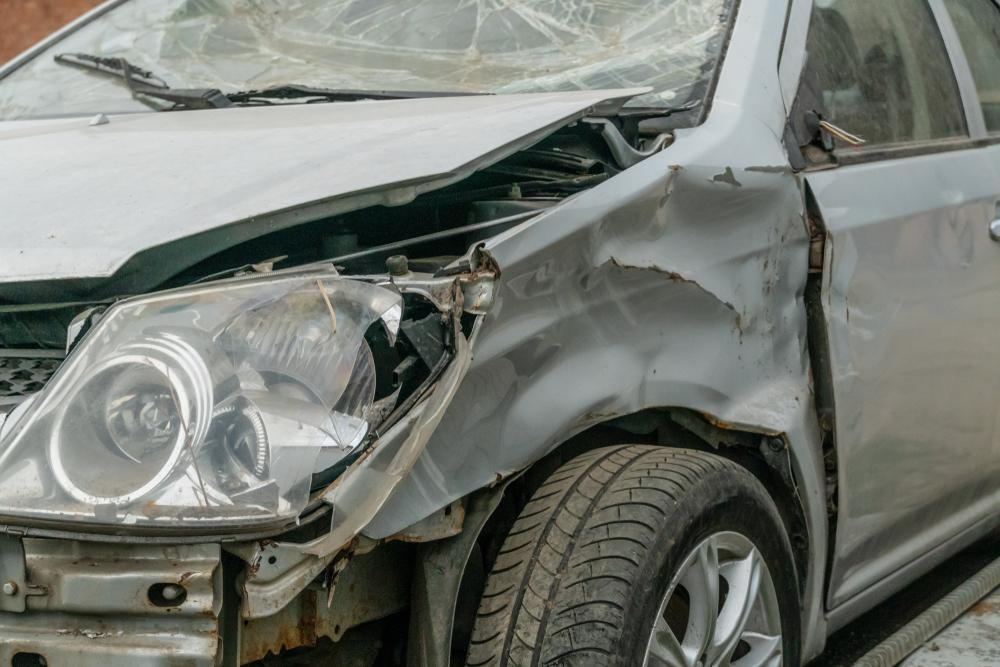dent: (426, 168, 811, 492)
lamp broken: (0, 262, 485, 534)
